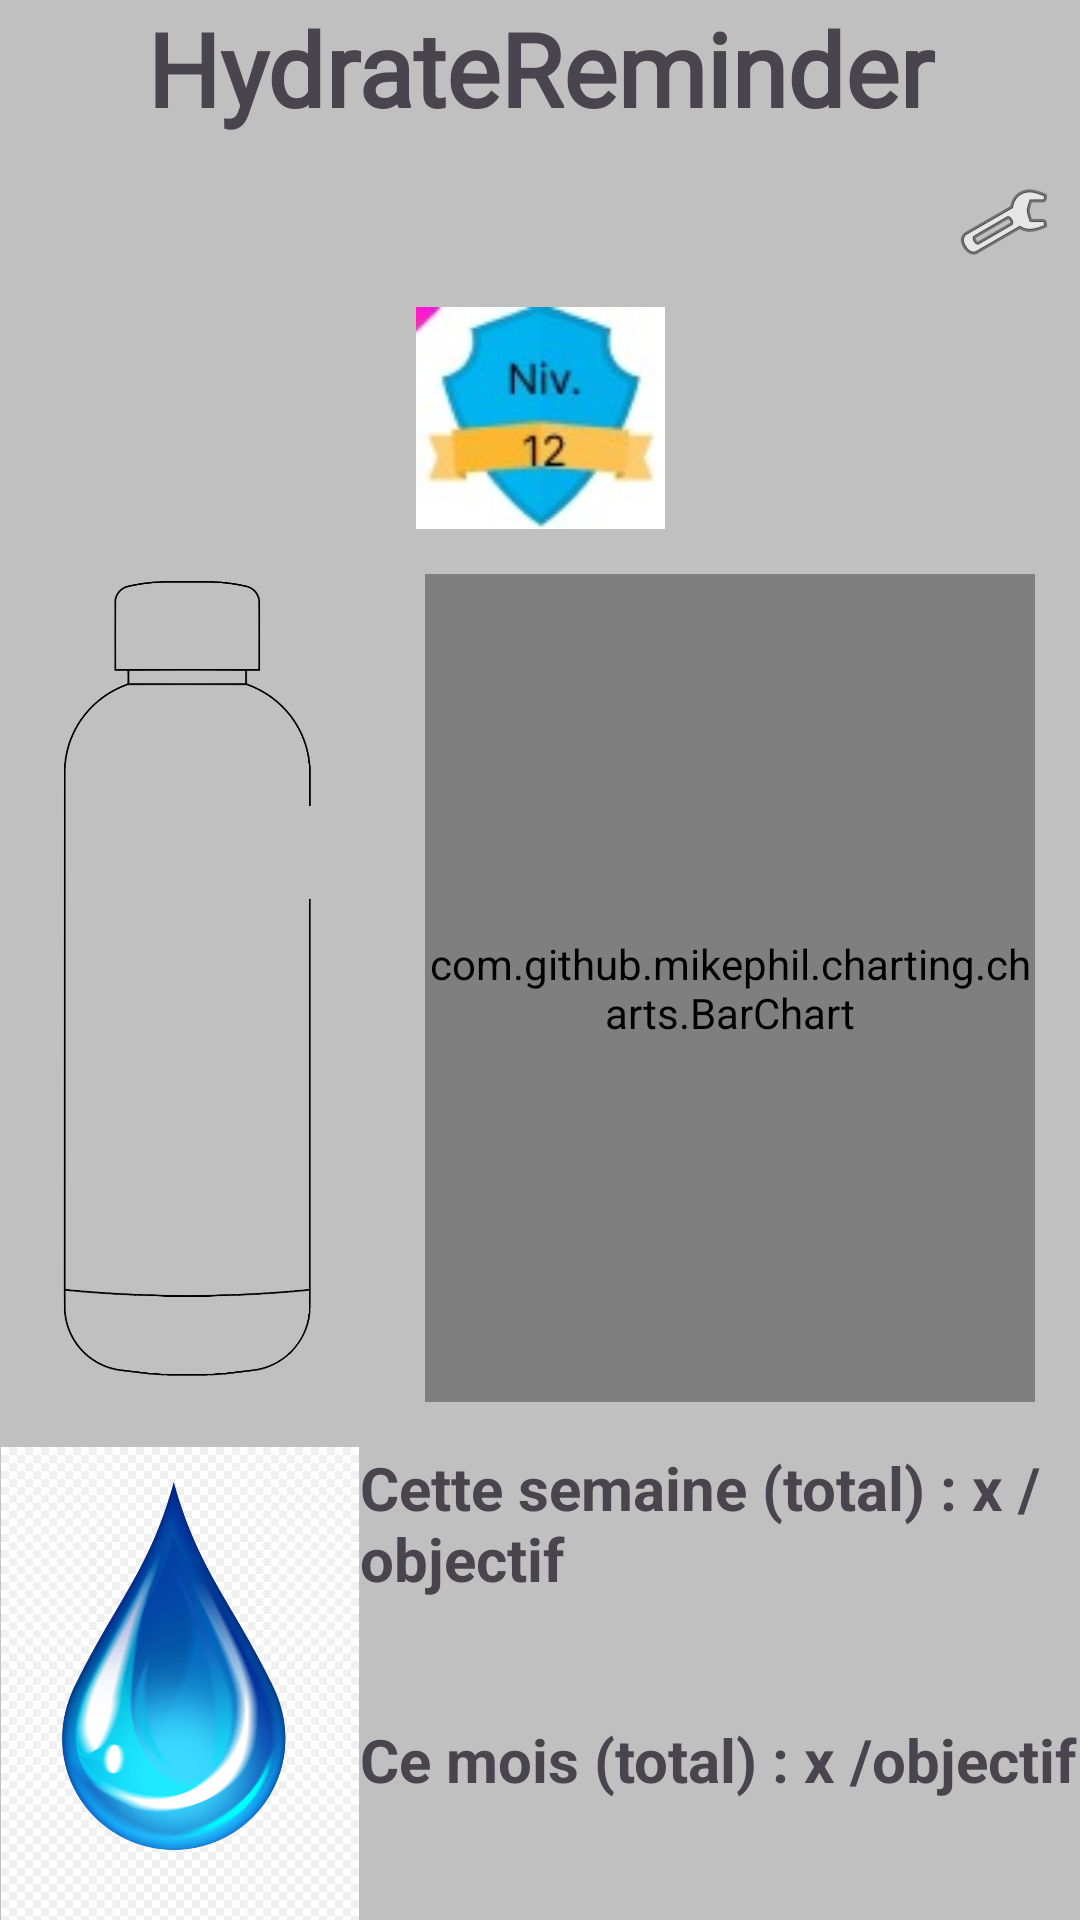

Icons on this 1080x1920 Android screen, each with its box as box=[x1, y1, x2, y2]:
Paramètres: box=[961, 189, 1047, 255]
